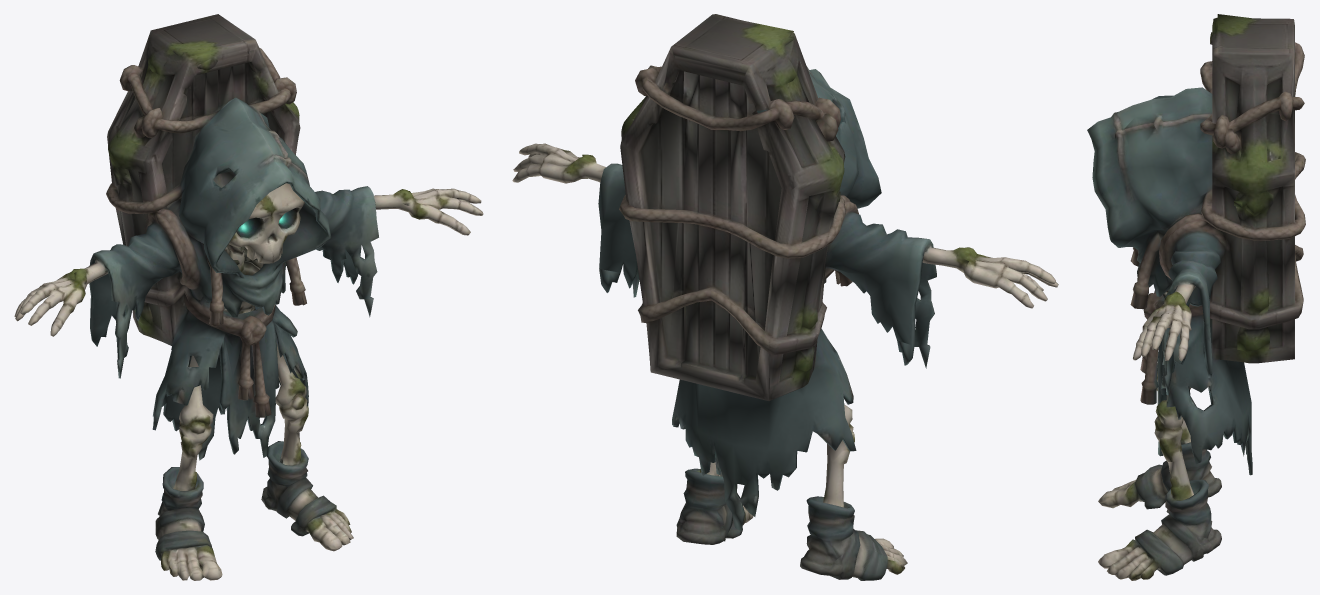
File: retopo.glb
3 renders of one model, left to right at view 1: azimuth 30°, elevation 25°; view 2: azimuth 150°, elevation 25°; view 3: azimuth 270°, elevation 25°, orthographic. The views are drawn at different scales.
Visible parts, largest first — view 1: tripo_node_0c221dcc-5d8c-472f-809e-a4f915b2ff03; view 2: tripo_node_0c221dcc-5d8c-472f-809e-a4f915b2ff03; view 3: tripo_node_0c221dcc-5d8c-472f-809e-a4f915b2ff03.
Part boxes in pixels (x1,y1,x2,y2): tripo_node_0c221dcc-5d8c-472f-809e-a4f915b2ff03: (14, 14, 483, 580); tripo_node_0c221dcc-5d8c-472f-809e-a4f915b2ff03: (512, 14, 1058, 580); tripo_node_0c221dcc-5d8c-472f-809e-a4f915b2ff03: (1087, 14, 1305, 580).
Bounding box in the file's own units: 0.9773 × 0.9773 × 0.3844.
1 material, 1 textured.
